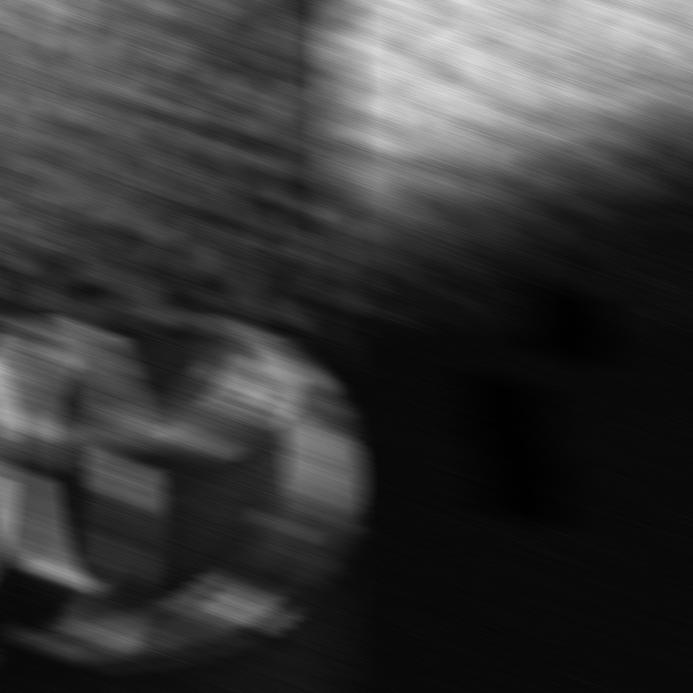AirbagV2: (0, 322, 348, 693), (329, 0, 693, 328), (0, 0, 348, 328)
